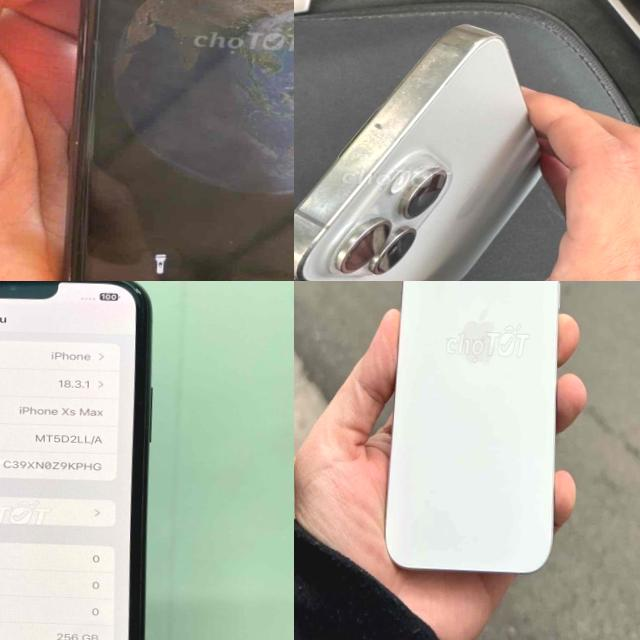gen_11: (36, 0, 294, 281)
gen_15: (294, 13, 567, 281)
gen_16: (373, 281, 577, 582)
gen_x_xs: (0, 281, 204, 640)
scratch: (294, 39, 507, 241)
